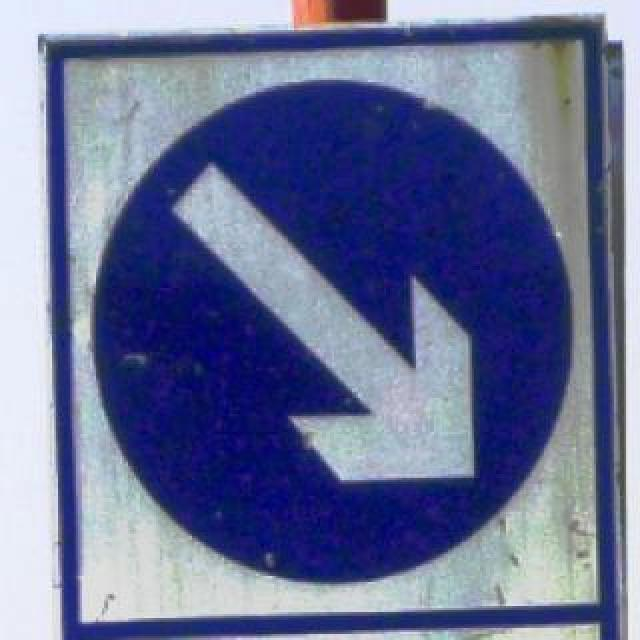keep right: (82, 70, 582, 590)
